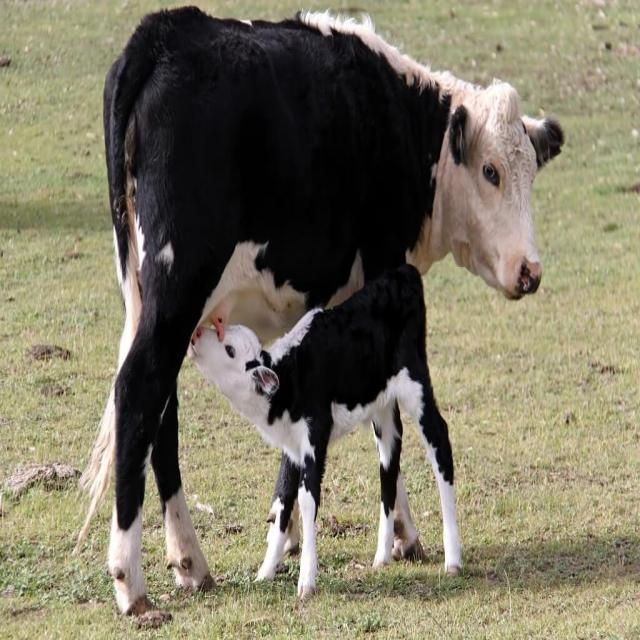cow: (398, 41, 594, 309), (172, 295, 282, 449)
